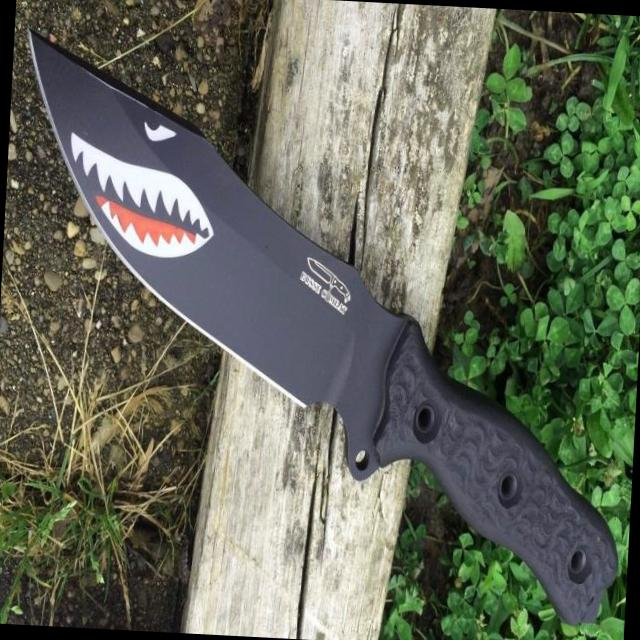Knife: (30, 33, 616, 623)
